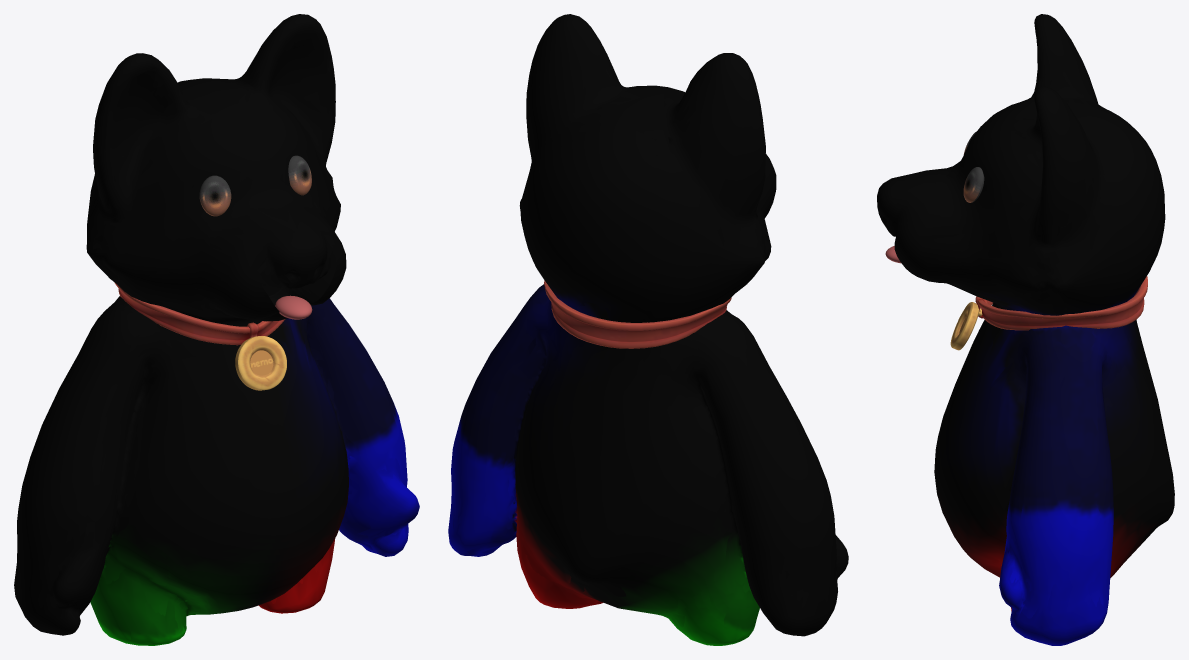
File: nemo_shell_v7.glb
The picture shows the model from 3 angles, left to right: view 1: azimuth 30°, elevation 25°; view 2: azimuth 150°, elevation 25°; view 3: azimuth 270°, elevation 25°; orthographic projection. The views are drawn at different scales.
Parts seen in each view (by area): view 1: BoundedShellGroom, Body, Collar, Nemo_Normal, Small tongue inside smile; view 2: BoundedShellGroom, Body, Collar; view 3: BoundedShellGroom, Body, Collar, Nemo_Normal.
Part boxes in pixels (x1,y1,x2,y2): BoundedShellGroom: (14,14,419,645); Body: (16,42,407,631); Collar: (114,282,286,390); Nemo_Normal: (199,155,311,216); Small tongue inside smile: (275,295,312,319); BoundedShellGroom: (448,14,848,645); Body: (450,68,842,627); Collar: (544,280,731,348); BoundedShellGroom: (877,14,1174,645); Body: (880,68,1157,635); Collar: (950,276,1147,350); Nemo_Normal: (963,131,984,202).
Bounding box in the file's own units: 1.78 × 2.66 × 1.33.
Materials: 6 (4 with a texture image).
